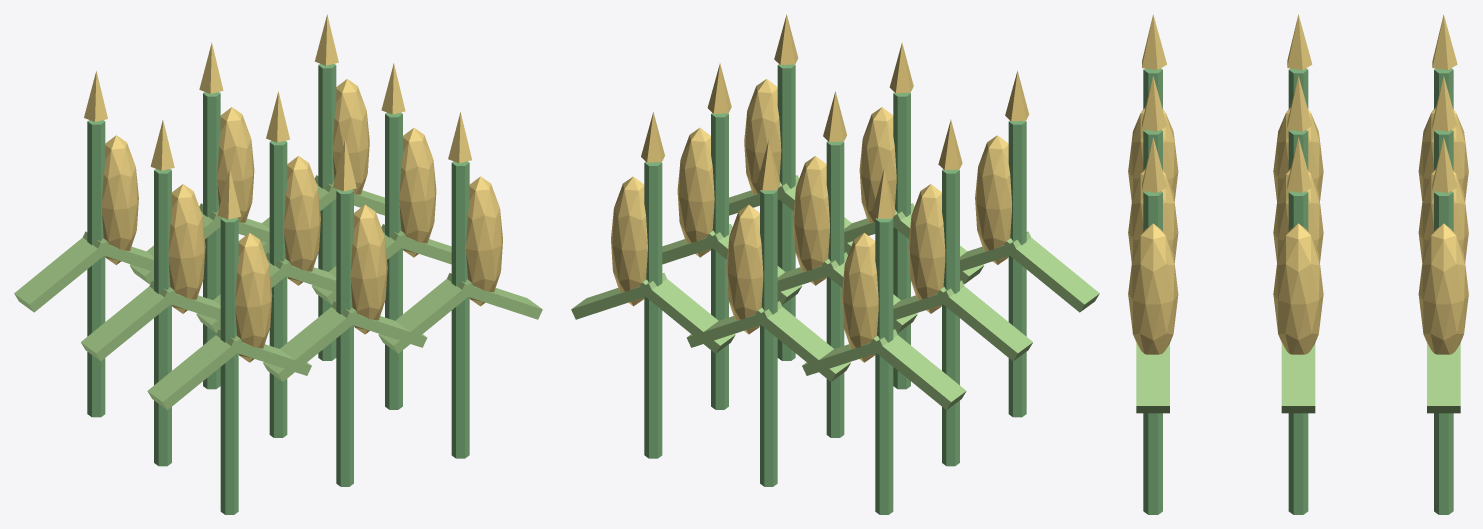
The model's file is corn.glb.
The picture shows the model from 3 angles, left to right: view 1: azimuth 30°, elevation 25°; view 2: azimuth 150°, elevation 25°; view 3: azimuth 270°, elevation 25°; orthographic projection. The views are drawn at different scales.
Visible parts, largest first — view 1: corn; view 2: corn; view 3: corn.
Part boxes in pixels (x1,y1,x2,y2): corn: (14,14,542,514); corn: (571,14,1099,514); corn: (1128,14,1468,514).
Size of the model in its own units: 1.71 by 1.48 by 1.22.
